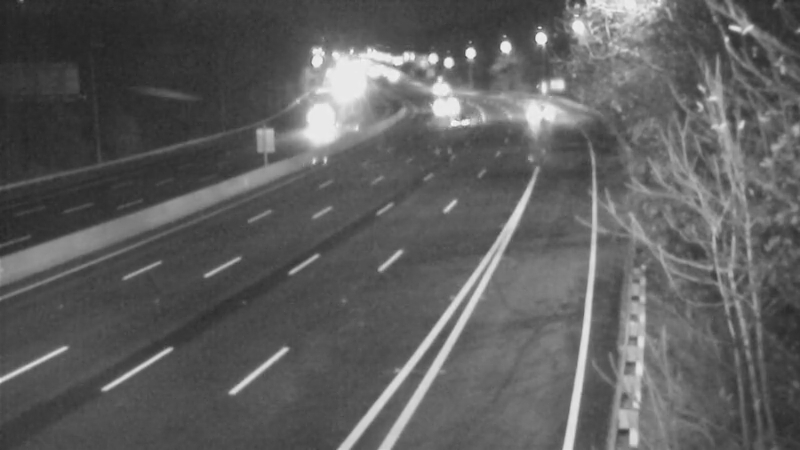vehicle: (416, 64, 466, 114), (511, 79, 561, 129), (416, 75, 466, 125), (436, 96, 486, 146), (298, 94, 348, 144)
